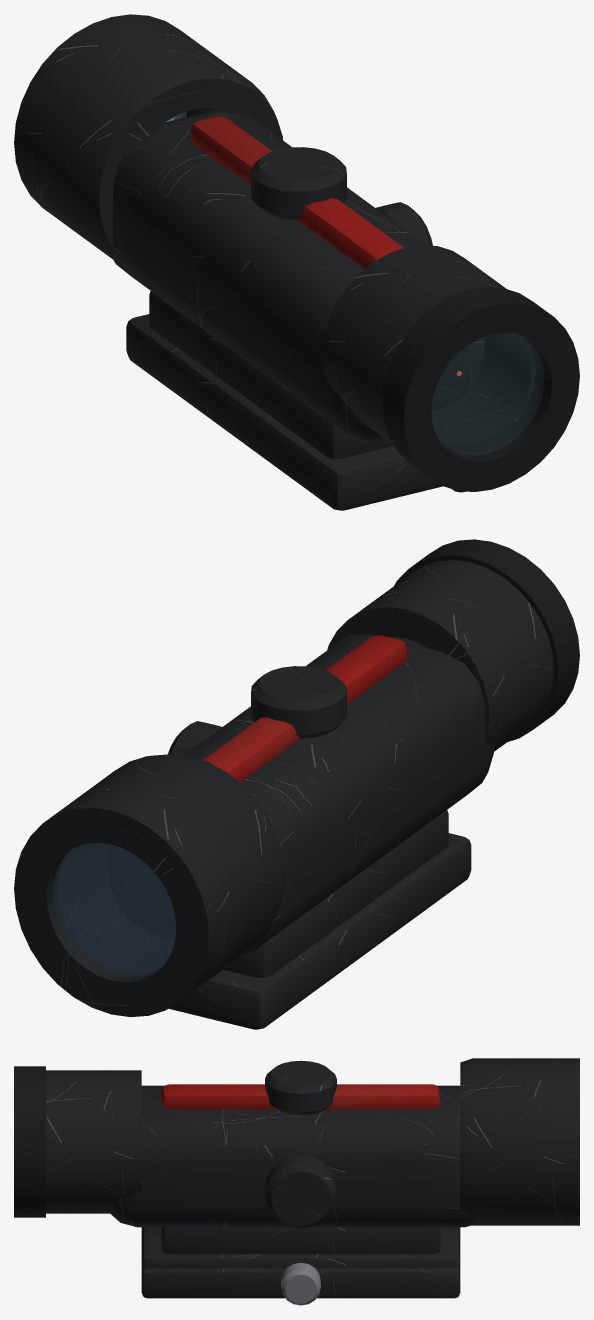
File: Optic_Scope4x.glb
The picture shows the model from 3 angles, top to bottom: view 1: azimuth 30°, elevation 25°; view 2: azimuth 150°, elevation 25°; view 3: azimuth 270°, elevation 25°; orthographic projection. The views are drawn at different scales.
Visible parts, largest first — view 1: Optic_Scope4x_Body; view 2: Optic_Scope4x_Body; view 3: Optic_Scope4x_Body.
Part boxes in pixels (box(x1,y1,x2,y2)): Optic_Scope4x_Body: box(14, 14, 579, 510); Optic_Scope4x_Body: box(14, 539, 579, 1029); Optic_Scope4x_Body: box(14, 1058, 579, 1305).
Bounding box in the file's own units: 0.046 × 0.057 × 0.142.
7 materials, 4 textured.
